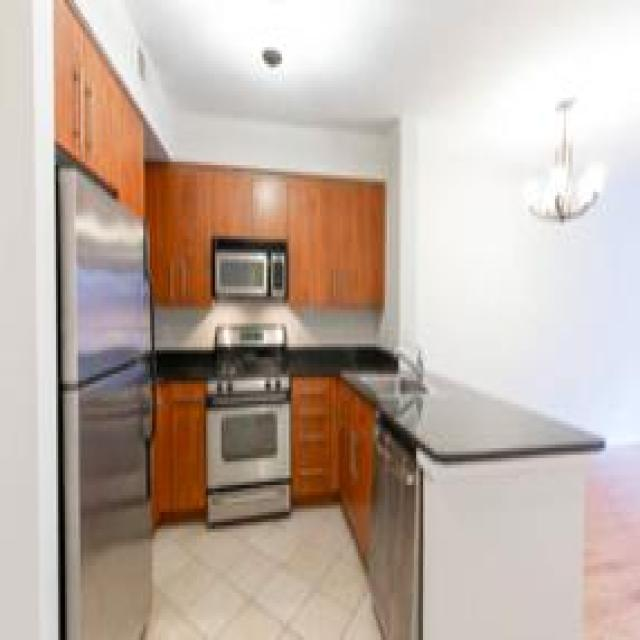dishwasher: (369, 411, 418, 637)
